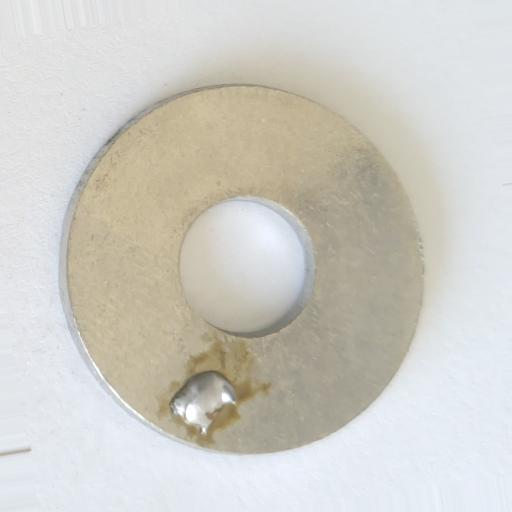excess_material: (168, 368, 239, 435)
